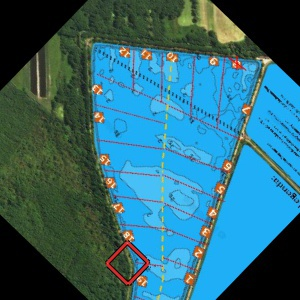square: (103, 237, 152, 287)
